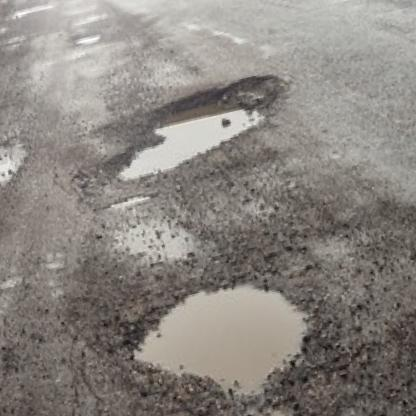pothole: (112, 255, 331, 416), (95, 77, 283, 186), (72, 29, 104, 51)
